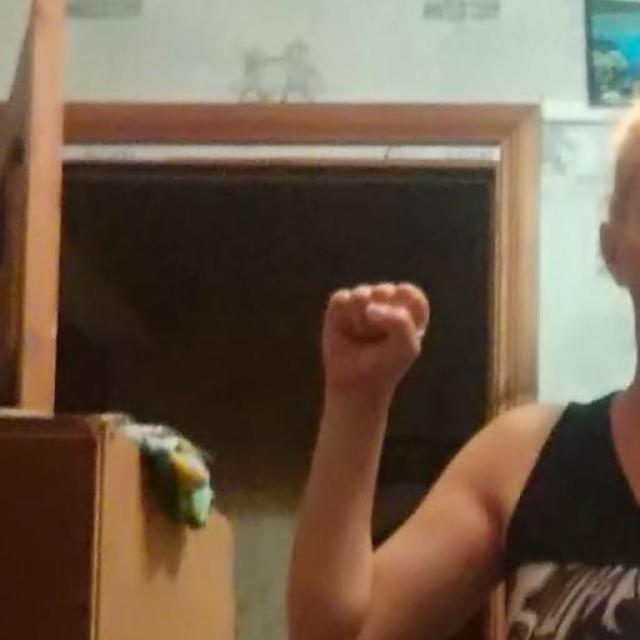hand: (319, 279, 430, 395)
